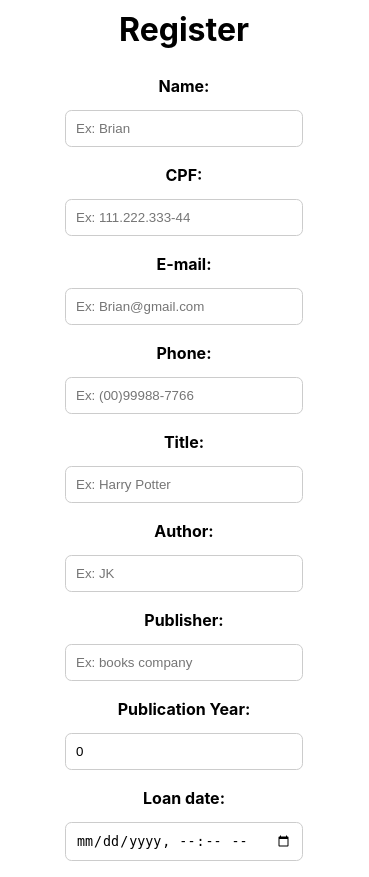
Test: Register component › displays error messages for invalid data
Clear the field with placeholder "Ex: Brian" at (184, 129), box 65,110 -> 303,147
(page scrolled)
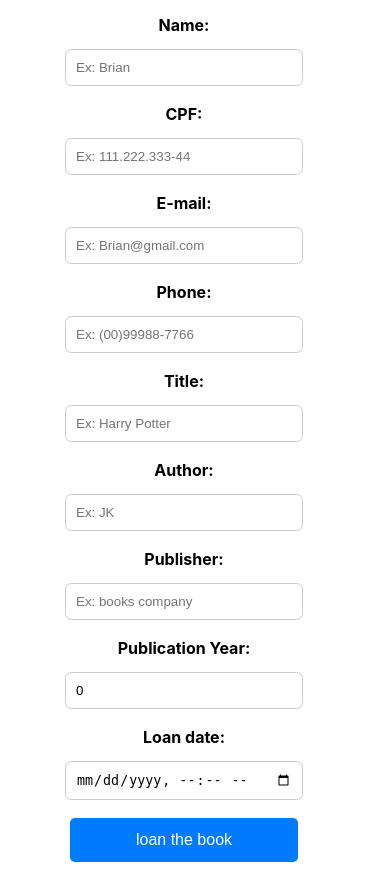
Click the button "loan the book" at (184, 840), box 70,818 -> 298,862
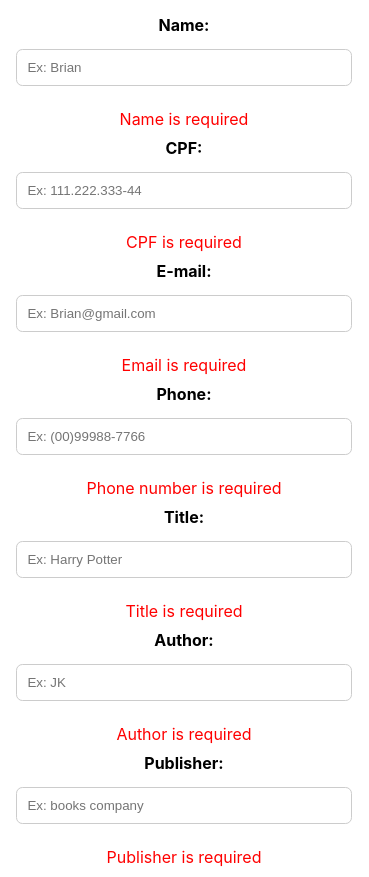
Now the text "Name is required" is shown, box 120,109 -> 248,129
